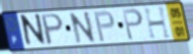H: (143, 5, 173, 41)
N: (68, 10, 98, 45), (20, 13, 48, 50)
P: (40, 12, 65, 47), (121, 7, 145, 42), (92, 10, 116, 44)
